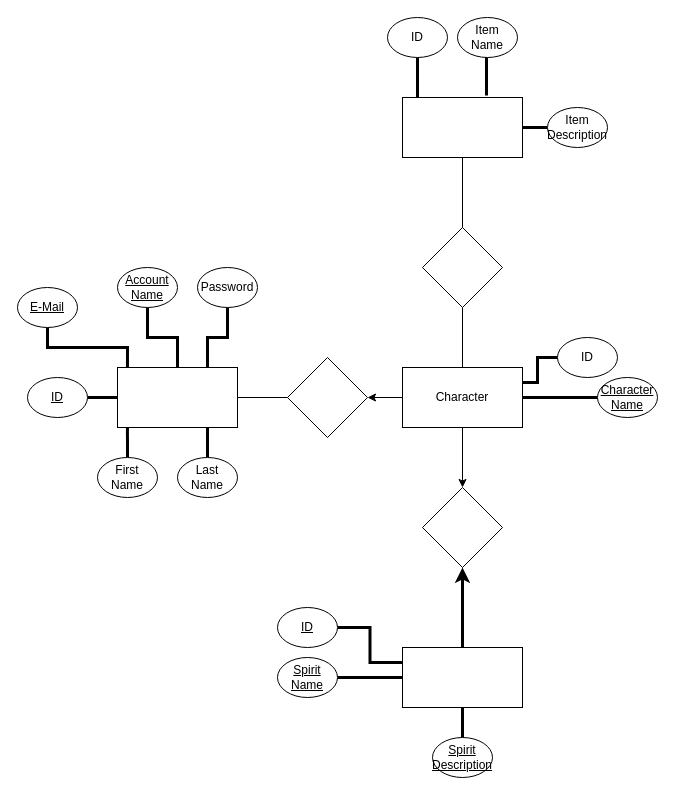
This 675x795 diagram has some shape labels left out. Here are the shapes that lost their labels. From the top down, the centre of each, then its label:
the point at 462,127: Items
the point at 462,267: Has
the point at 177,397: Player
the point at 327,397: Plays
the point at 462,527: Summons
the point at 462,677: Spirit
